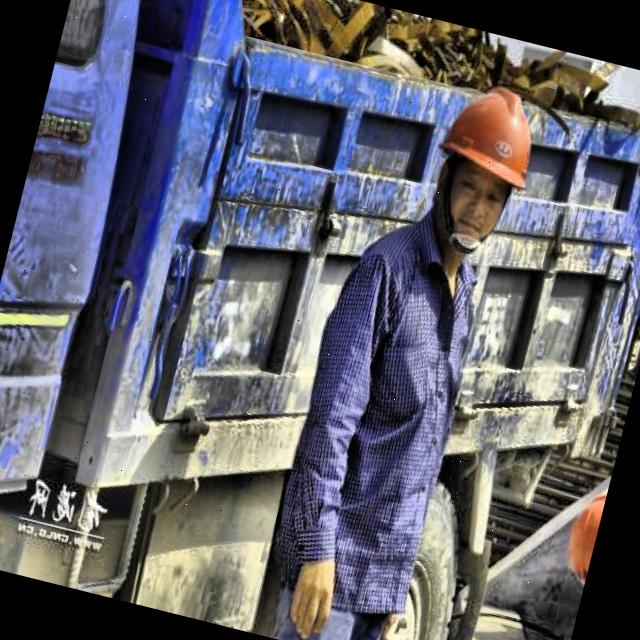helmet: (402, 60, 559, 278)
